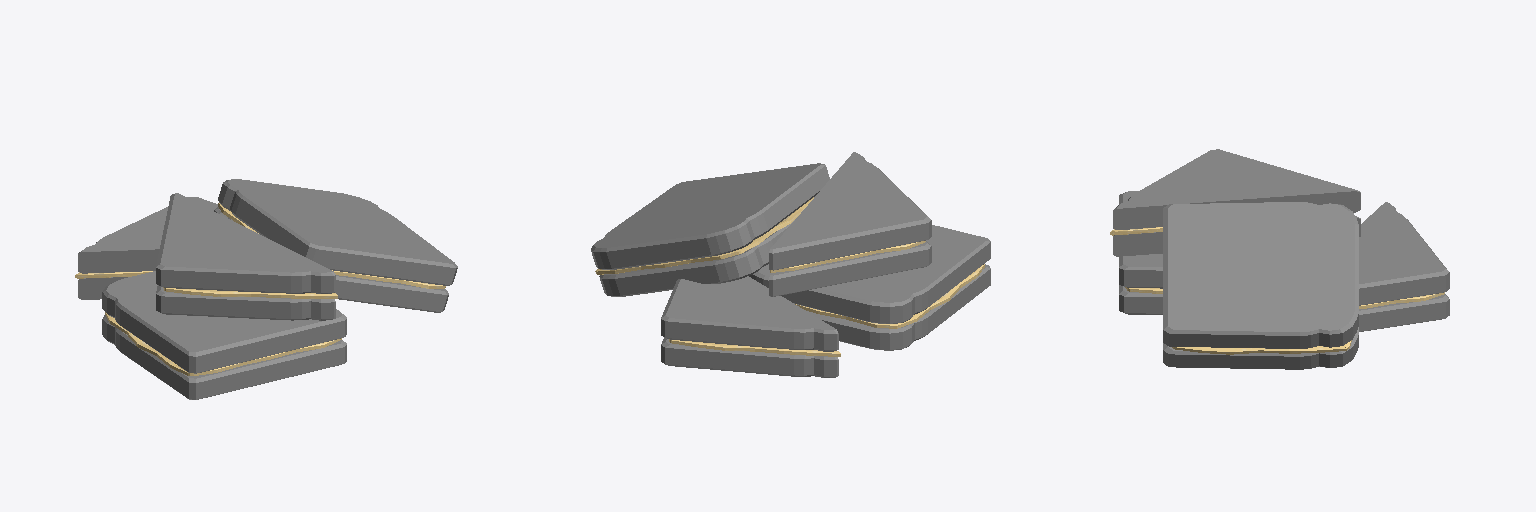
3 renders of one model, left to right at view 1: azimuth 30°, elevation 25°; view 2: azimuth 150°, elevation 25°; view 3: azimuth 270°, elevation 25°, orthographic.
Visible parts, largest first — view 1: Bread_HalfB003, Bread_HalfB, Bread_HalfB002, Bread_HalfA001, Bread_HalfA, Bread_HalfB001, GrilledCheese_HalfB003, GrilledCheese_HalfA001, GrilledCheese_HalfB002; view 2: Bread_HalfA, Bread_HalfB003, Bread_HalfB001, Bread_HalfA001, Bread_HalfB, GrilledCheese_HalfA, GrilledCheese_HalfA001, GrilledCheese_HalfB001, Bread_HalfB002, GrilledCheese_HalfB003; view 3: Bread_HalfB, Bread_HalfA, Bread_HalfB003, Bread_HalfB001, Bread_HalfB002, GrilledCheese_HalfB.
Part boxes in pixels (bbox=[...]): Bread_HalfB003: bbox=[156, 193, 335, 320]; Bread_HalfB: bbox=[309, 201, 457, 312]; Bread_HalfB002: bbox=[192, 309, 346, 399]; Bread_HalfA001: bbox=[102, 271, 214, 399]; Bread_HalfA: bbox=[214, 179, 367, 258]; Bread_HalfB001: bbox=[78, 197, 217, 299]; GrilledCheese_HalfB003: bbox=[163, 287, 337, 298]; GrilledCheese_HalfA001: bbox=[105, 312, 193, 375]; GrilledCheese_HalfB002: bbox=[194, 338, 341, 375]; Bread_HalfA: bbox=[591, 164, 829, 296]; Bread_HalfB003: bbox=[769, 152, 931, 296]; Bread_HalfB001: bbox=[661, 276, 838, 377]; Bread_HalfA001: bbox=[749, 239, 990, 350]; Bread_HalfB: bbox=[591, 163, 824, 292]; GrilledCheese_HalfA: bbox=[595, 197, 813, 274]; GrilledCheese_HalfA001: bbox=[795, 264, 984, 328]; GrilledCheese_HalfB001: bbox=[669, 339, 840, 356]; Bread_HalfB002: bbox=[926, 225, 989, 266]; GrilledCheese_HalfB003: bbox=[770, 241, 925, 272]; Bread_HalfB: bbox=[1163, 206, 1344, 369]; Bread_HalfA: bbox=[1167, 202, 1358, 364]; Bread_HalfB003: bbox=[1113, 149, 1360, 256]; Bread_HalfB001: bbox=[1359, 202, 1449, 331]; Bread_HalfB002: bbox=[1119, 193, 1162, 314]; GrilledCheese_HalfB: bbox=[1172, 346, 1346, 354].
Bounding box in the file's own units: 24.21 × 8.22 × 23.79.
2 materials, 1 textured.